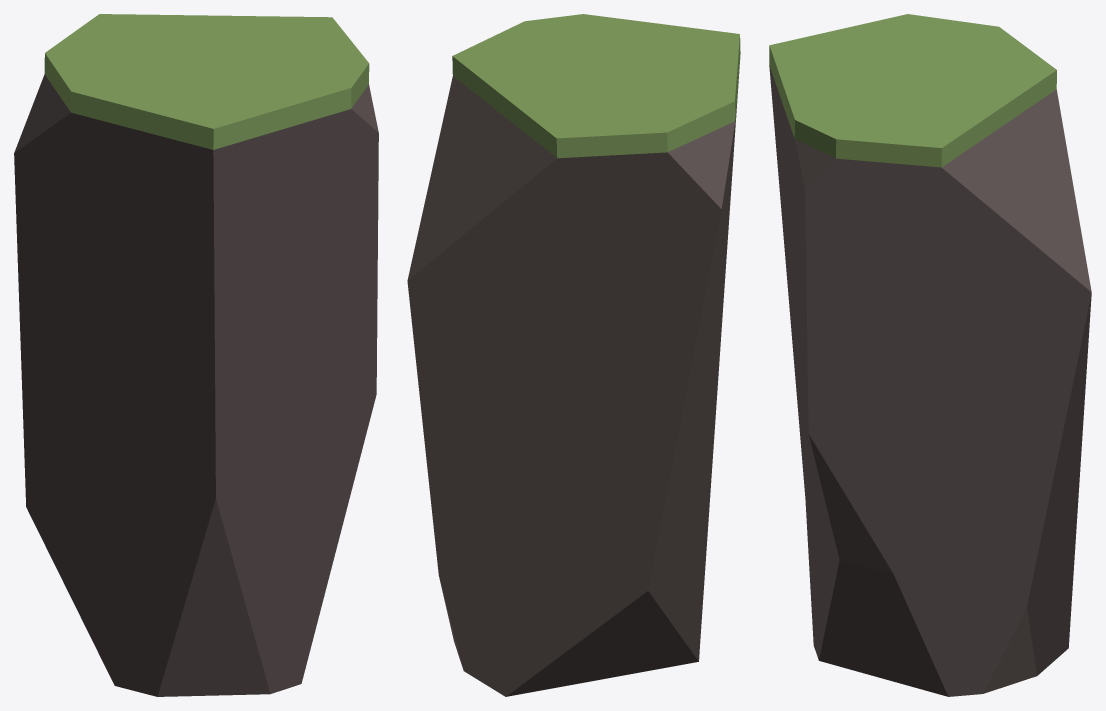
File: lotusplatform1.fbx
3 views of the same model, side by side, from view 1: azimuth 30°, elevation 25°; view 2: azimuth 150°, elevation 25°; view 3: azimuth 270°, elevation 25° (orthographic). The views are drawn at different scales.
Visible parts, largest first — view 1: Cube.003; view 2: Cube.003; view 3: Cube.003.
Part boxes in pixels (x1,y1,x2,y2): Cube.003: [14, 14, 378, 696]; Cube.003: [407, 14, 740, 696]; Cube.003: [769, 14, 1091, 696].
Size of the model in its own units: 228 by 436 by 226.
